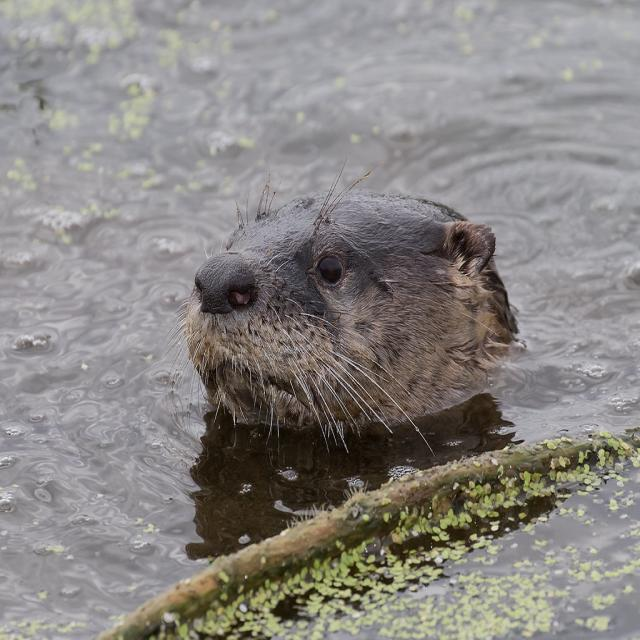otter: (190, 193, 512, 426)
